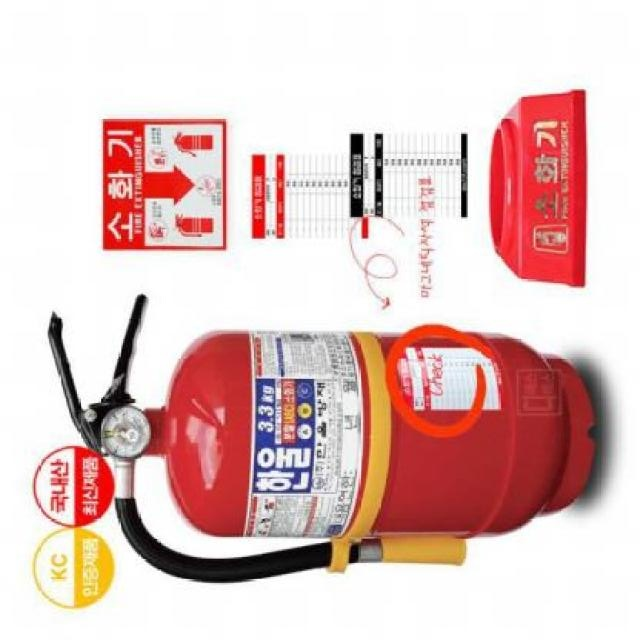fire extinguisher: (47, 293, 595, 584)
